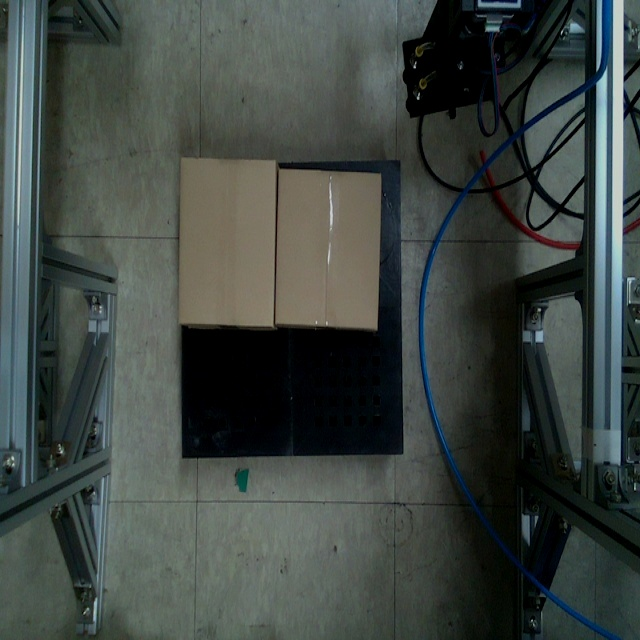box: (275, 167, 382, 332), (179, 155, 277, 329)
